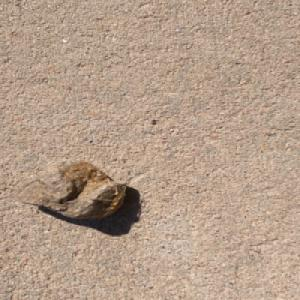Rock: (9, 158, 129, 220)
